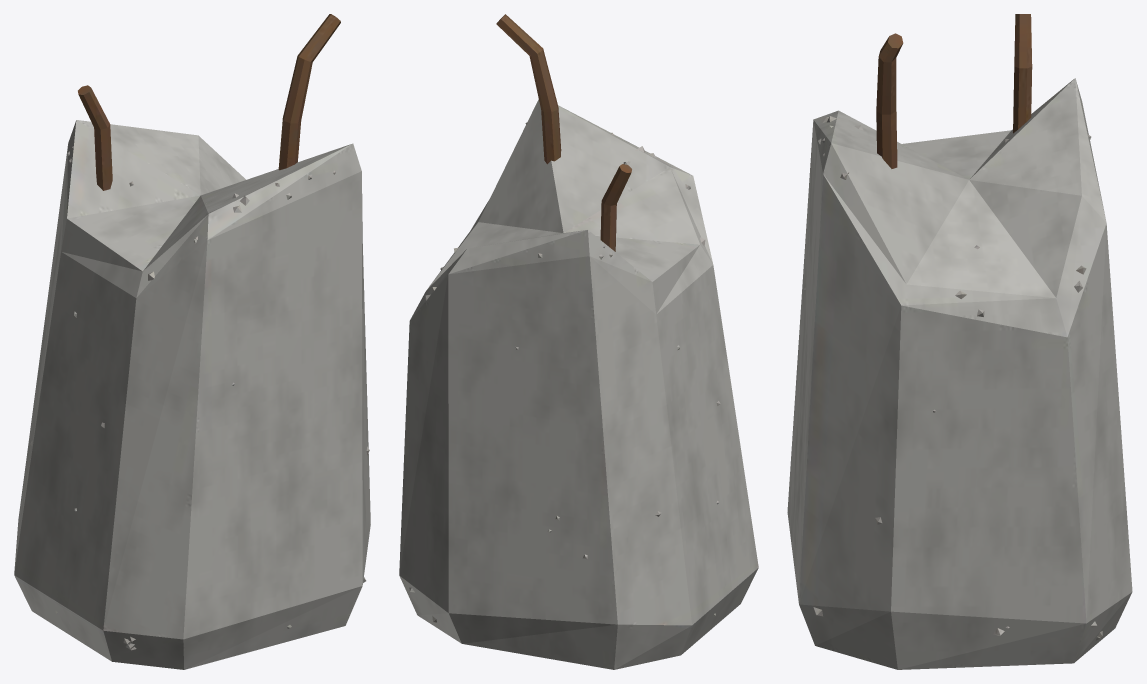
File: D29_concrete_chunks_v2.glb
3 renders of one model, left to right at view 1: azimuth 30°, elevation 25°; view 2: azimuth 150°, elevation 25°; view 3: azimuth 270°, elevation 25°, orthographic. The views are drawn at different scales.
Parts seen in each view (by area): view 1: Column Stump; view 2: Column Stump; view 3: Column Stump.
Part boxes in pixels (x1,y1,x2,y2): Column Stump: (14,14,370,669); Column Stump: (399,14,758,669); Column Stump: (787,14,1132,669).
Size of the model in its own units: 0.3203 by 0.6 by 0.3003.
Materials: 3 (3 with a texture image).
